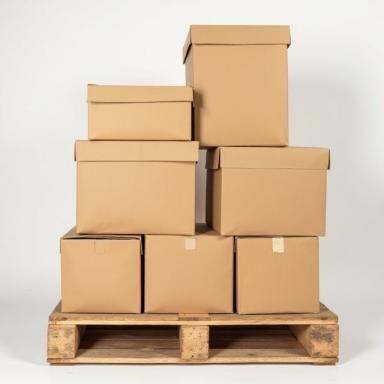pallet: (46, 297, 339, 364)
